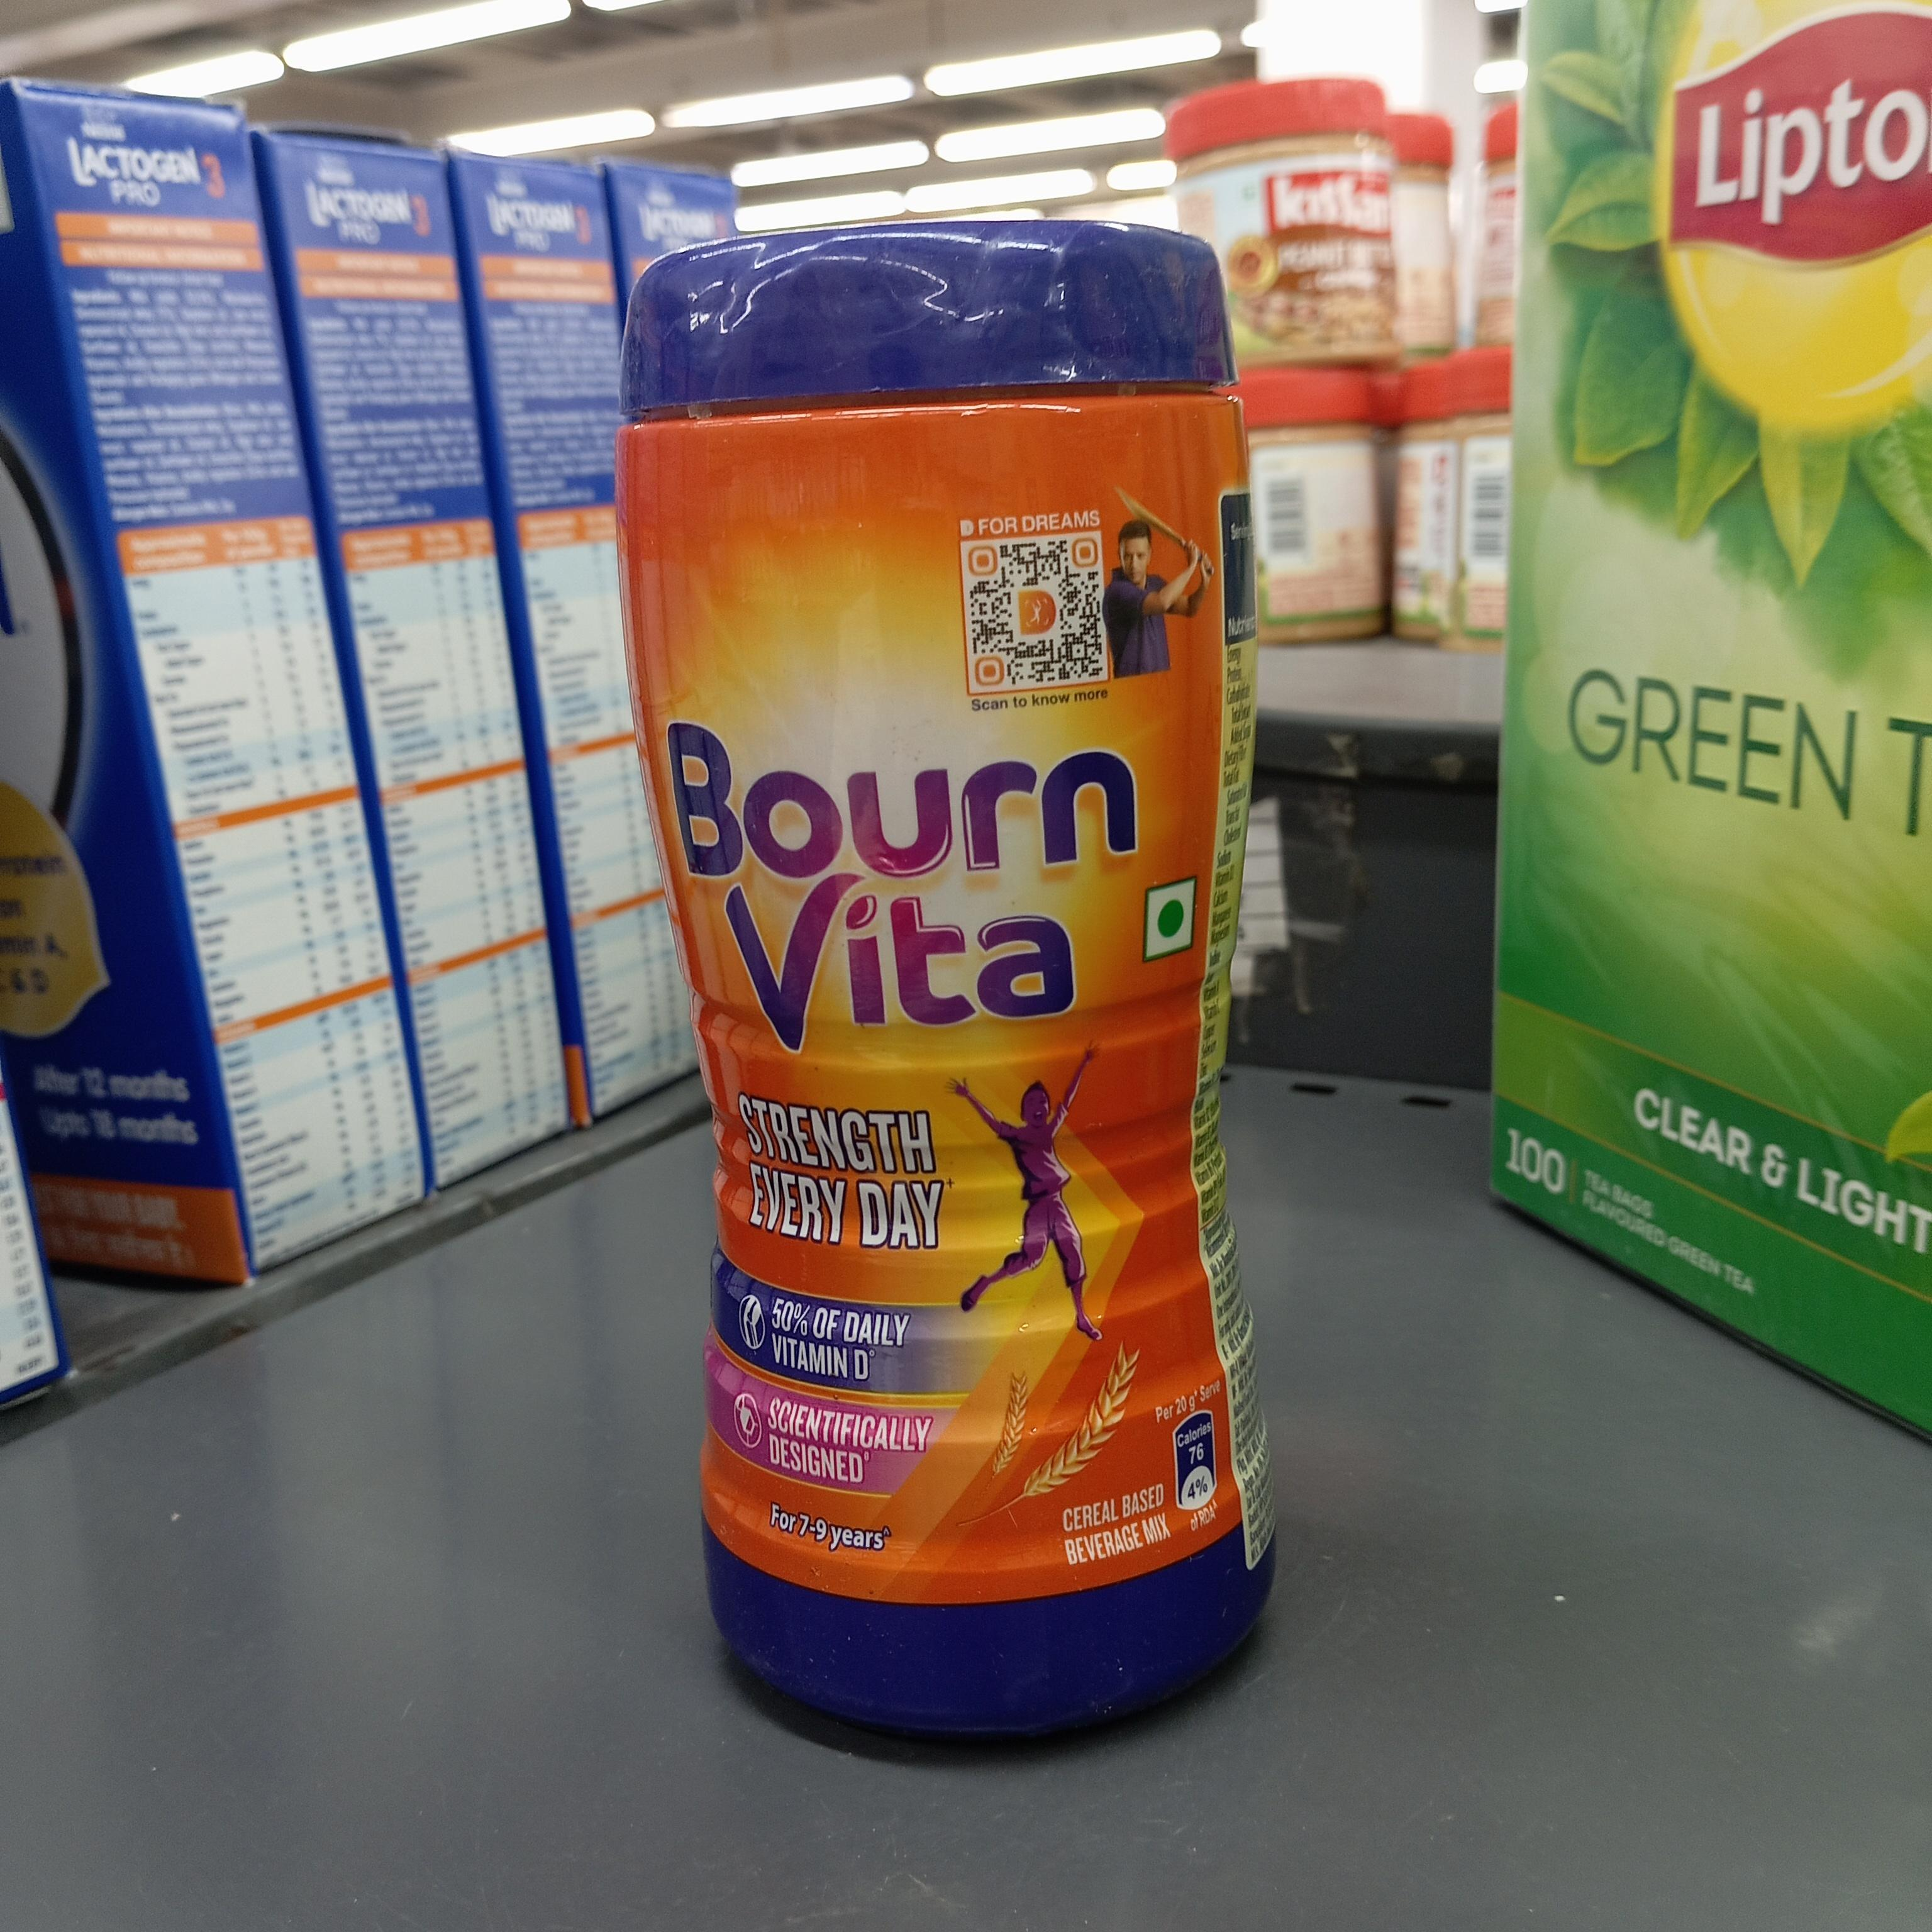BOURN_VITA_200_G_JAR: (617, 202, 1276, 1730)
